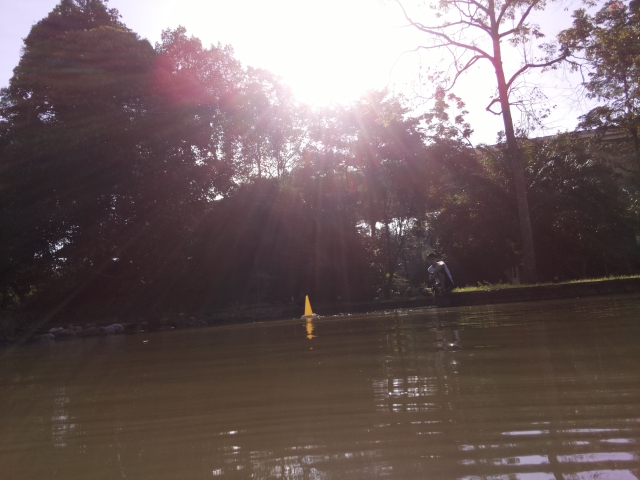checkpoint: (302, 294, 316, 317)
